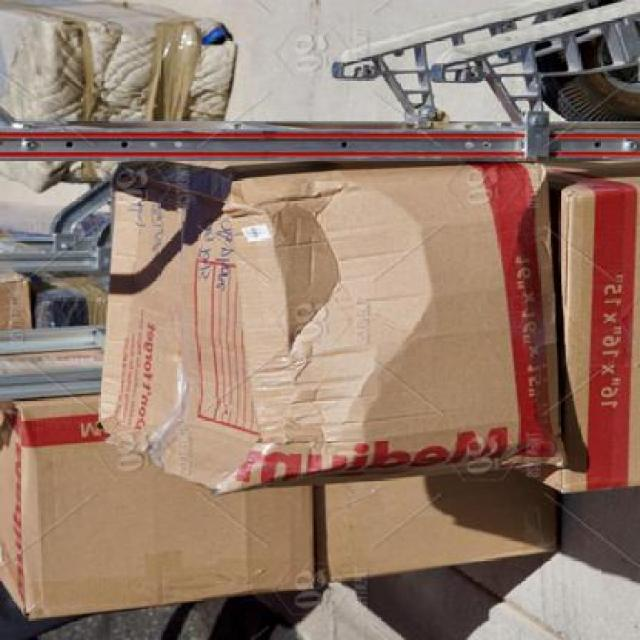defect: (103, 163, 563, 495)
